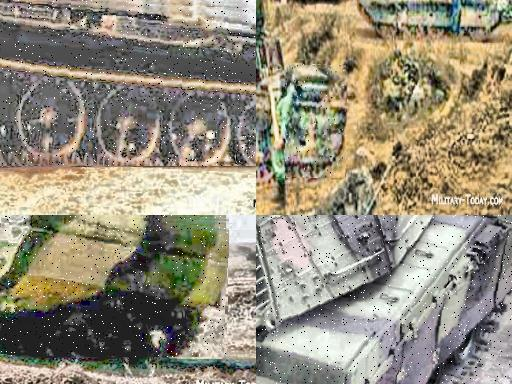tanks: (257, 216, 512, 384), (1, 1, 257, 167), (1, 216, 229, 358), (286, 65, 347, 179), (358, 1, 507, 36), (257, 36, 285, 184)
